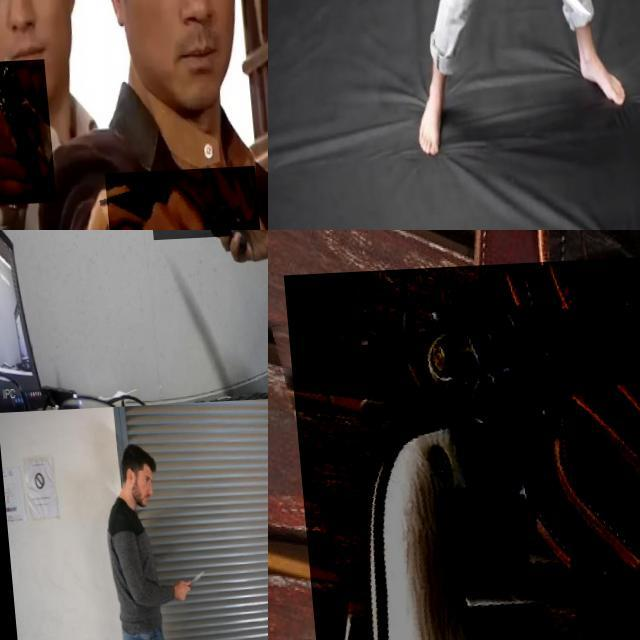-: (142, 230, 229, 287), (507, 0, 563, 54), (170, 570, 198, 594)
gun-knife-thesis - v11 Yolov5 augmented: (280, 259, 640, 640), (96, 169, 258, 230), (0, 60, 54, 207)
